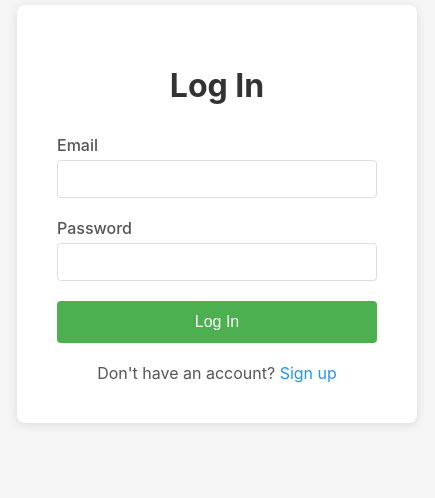
Test: LoginPage › displays error on login failure
In the field labelled "Email": (217, 179) [57, 160, 377, 198], type "test@example.com"
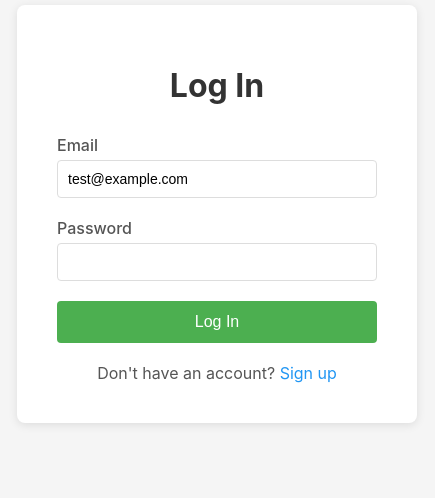
In the password field labelled "Password": (217, 262) [57, 243, 377, 281], type "wrongpassword"
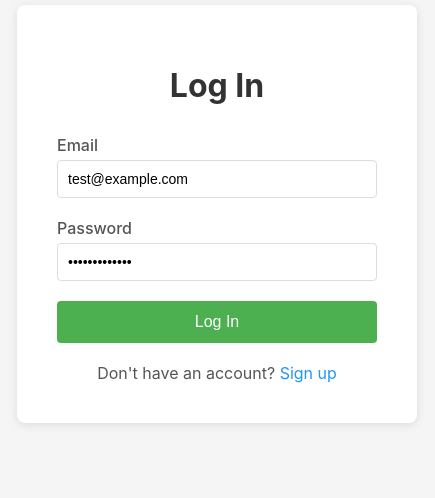
Click the button "Log In": (217, 322) [57, 301, 377, 343]
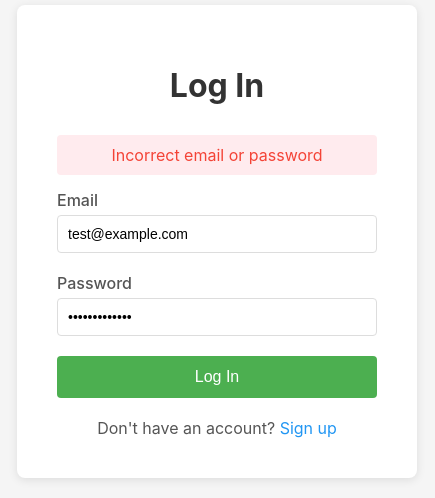
Now the text "Incorrect email or password" is shown, box [57, 135, 377, 175]
